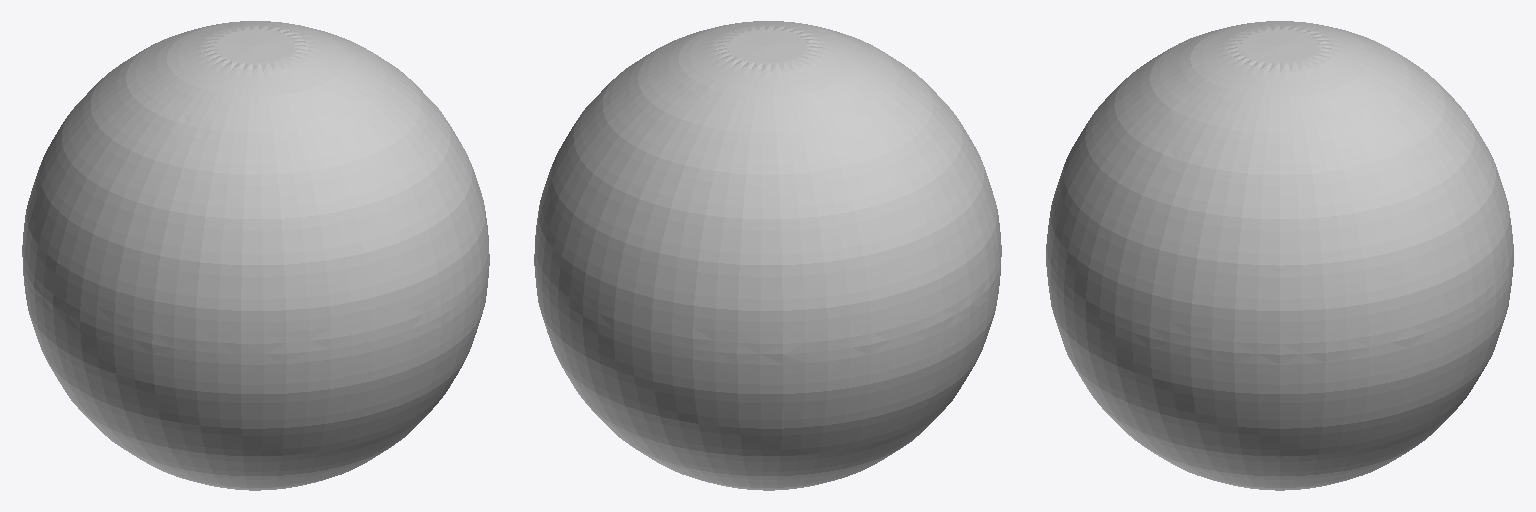
Rendered from Earth.obj.
The picture shows the model from 3 angles: view 1: azimuth 30°, elevation 25°; view 2: azimuth 150°, elevation 25°; view 3: azimuth 270°, elevation 25°; orthographic projection.
Visible parts, largest first — view 1: World_Earth; view 2: World_Earth; view 3: World_Earth.
Part boxes in pixels (x1,y1,x2,y2): World_Earth: (22, 21, 489, 490); World_Earth: (534, 21, 1001, 490); World_Earth: (1046, 21, 1513, 490).
Bounding box in the file's own units: 11.63 × 11.52 × 11.61.